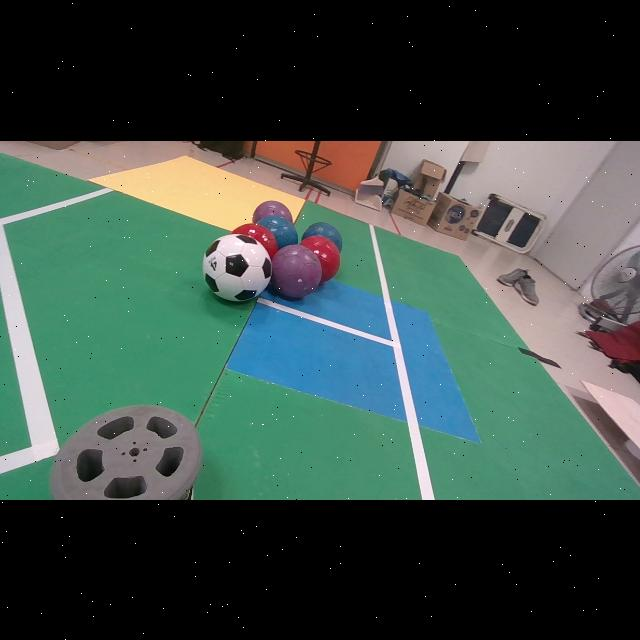B: (258, 214, 298, 247), (302, 222, 342, 250)
P: (271, 244, 322, 298), (253, 200, 293, 222)
R: (300, 235, 340, 282), (232, 222, 277, 258)
